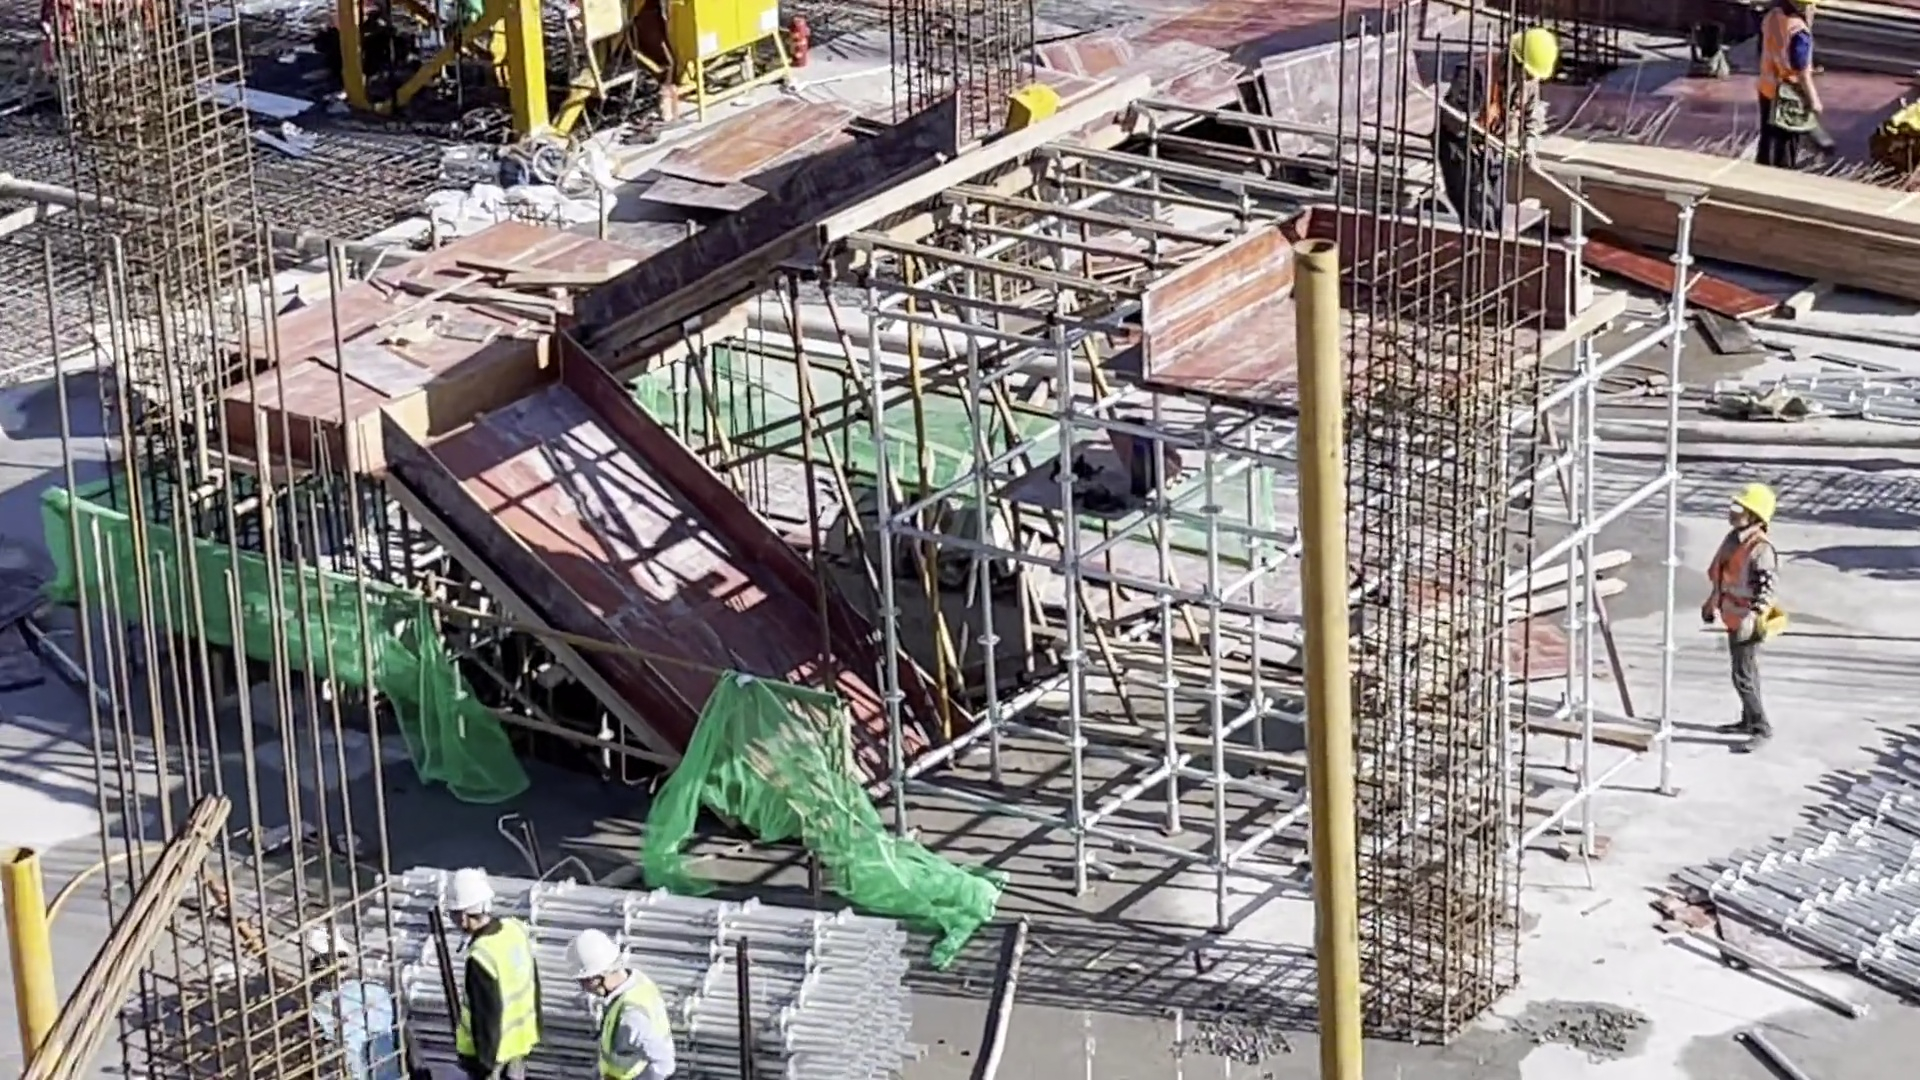board: (256, 273, 544, 457)
ebox: (659, 1, 793, 124), (562, 1, 649, 99)
helmet: (569, 930, 621, 980), (441, 869, 493, 909), (1512, 30, 1556, 76), (1732, 483, 1776, 522)
person: (1432, 23, 1563, 234), (1701, 478, 1789, 758), (441, 860, 542, 1080), (570, 927, 678, 1080), (1759, 1, 1825, 172)
scaffold: (676, 884, 927, 1080)
vest: (455, 913, 541, 1061), (595, 977, 674, 1080), (1709, 525, 1780, 635), (1760, 7, 1810, 101)
